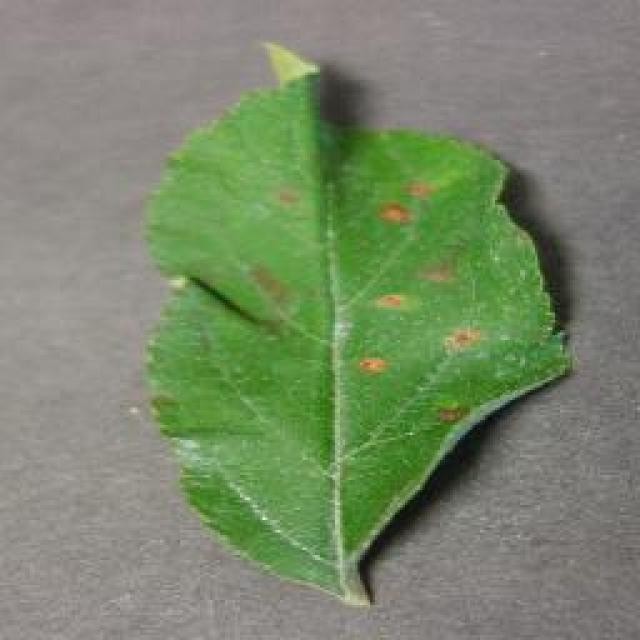apple healthy: (140, 38, 572, 608)
